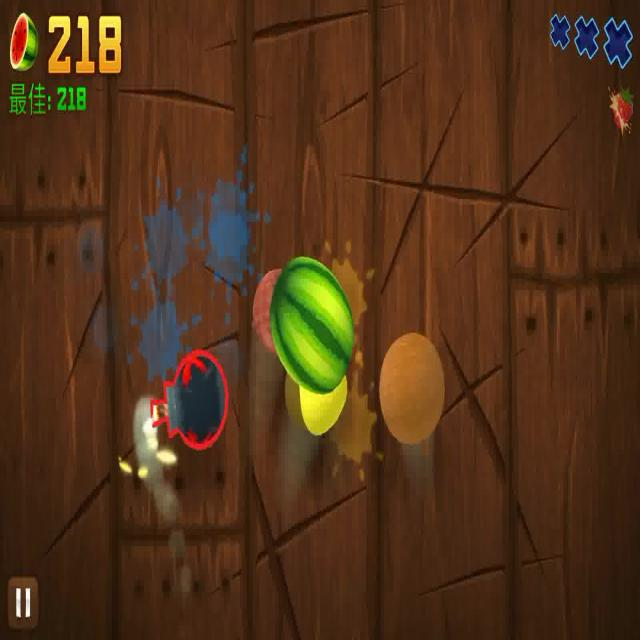bomb: (119, 339, 233, 480)
fruit: (272, 248, 359, 388), (377, 334, 448, 443), (248, 265, 295, 345), (301, 374, 352, 434)
